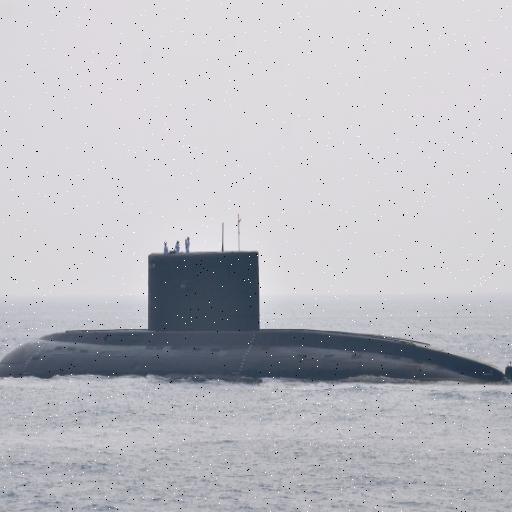submarine: (1, 252, 512, 379)
